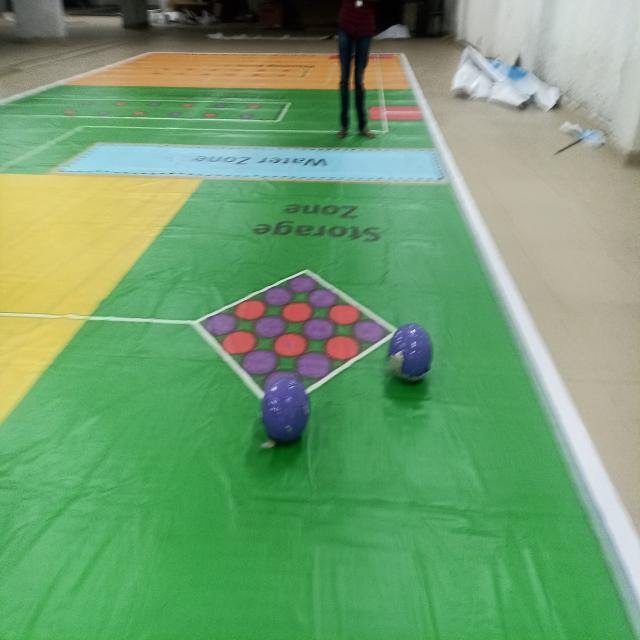purple_ball: (381, 312, 442, 400), (255, 367, 313, 459)
